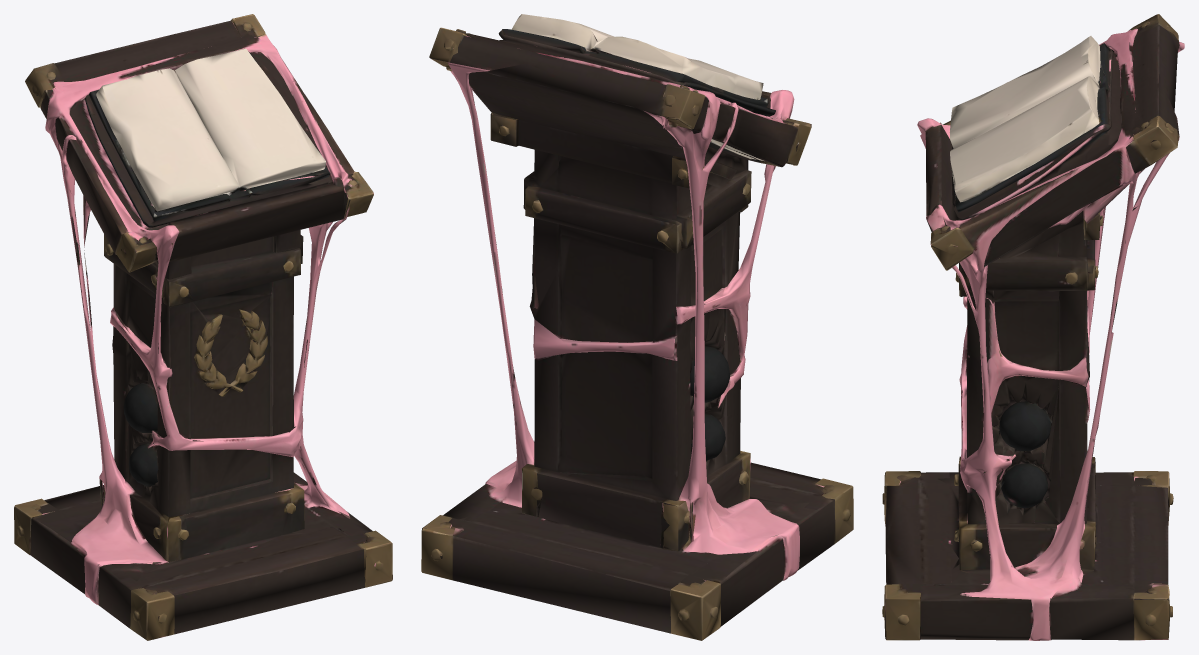
Rendered from atril.glb.
3 renders of one model, left to right at view 1: azimuth 30°, elevation 25°; view 2: azimuth 150°, elevation 25°; view 3: azimuth 270°, elevation 25°, orthographic. The views are drawn at different scales.
Parts seen in each view (by area): view 1: Malla; view 2: Malla; view 3: Malla.
Boxes of the visible parts, bbox=[...] form: Malla: bbox=[14, 14, 392, 640]; Malla: bbox=[421, 14, 853, 640]; Malla: bbox=[882, 14, 1184, 640].
Bounding box in the file's own units: 0.807 × 1.45 × 0.7796.
Materials: 1 (1 with a texture image).
